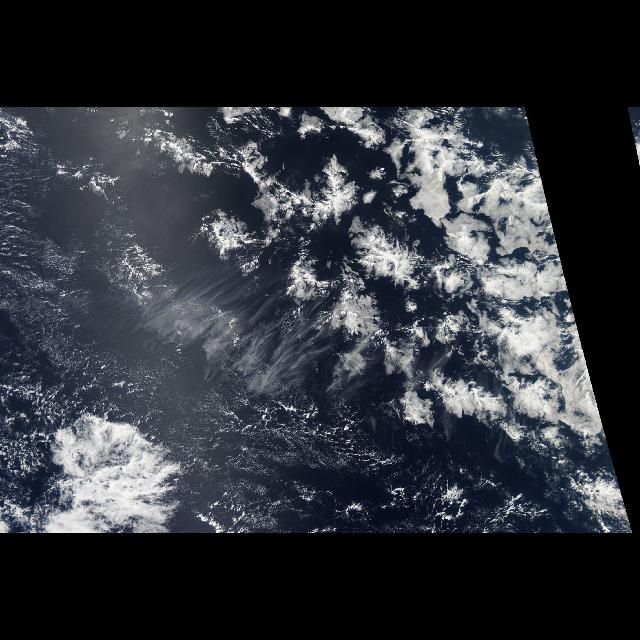Flower: (290, 114, 518, 428)
Sugar: (1, 158, 177, 432)
